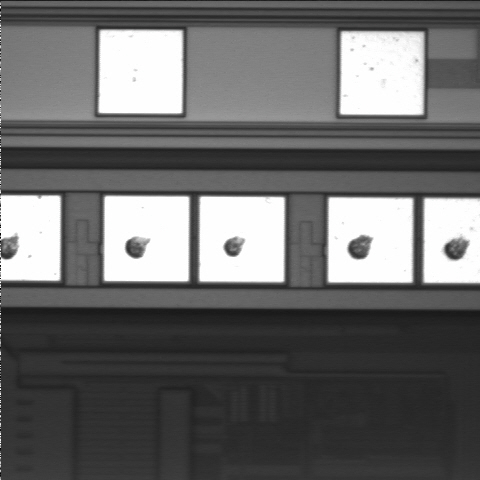pad: (104, 196, 189, 281), (199, 197, 284, 282), (328, 198, 413, 283), (99, 30, 182, 113), (340, 32, 423, 115)
